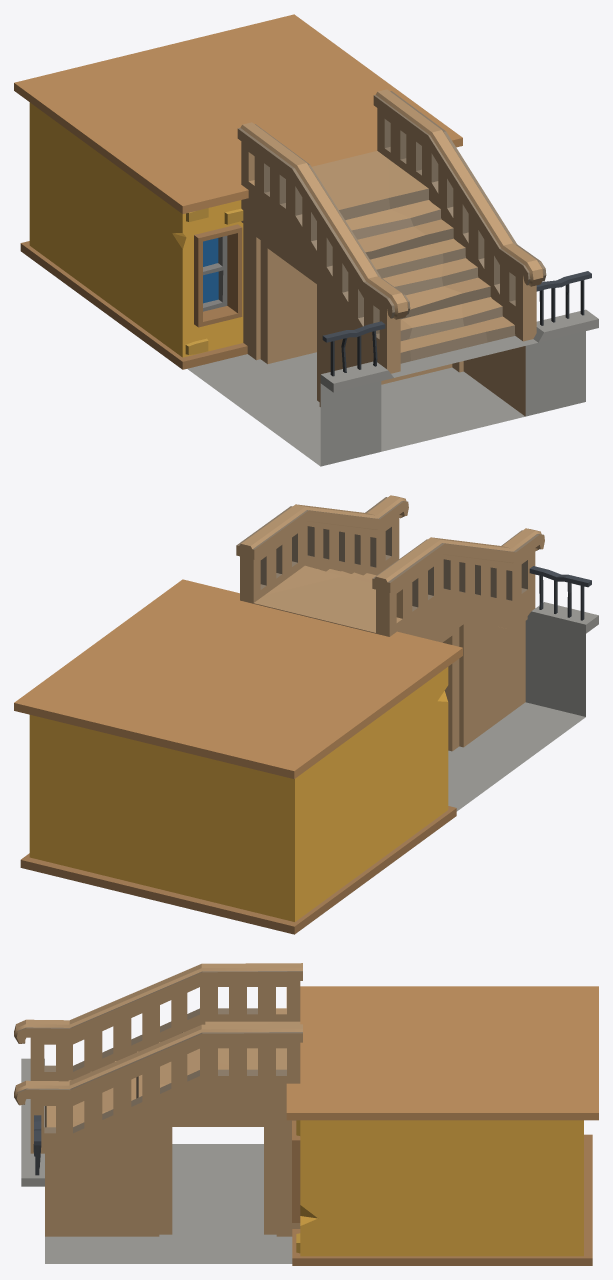
The model's file is SM_Bld_Apartment_Stairs_01.fbx.
The picture shows the model from 3 angles, top to bottom: view 1: azimuth 30°, elevation 25°; view 2: azimuth 150°, elevation 25°; view 3: azimuth 270°, elevation 25°; orthographic projection. The views are drawn at different scales.
Visible parts, largest first — view 1: SM_Bld_Apartment_Stairs_01; view 2: SM_Bld_Apartment_Stairs_01; view 3: SM_Bld_Apartment_Stairs_01.
Part boxes in pixels (x1=…): SM_Bld_Apartment_Stairs_01: x1=14, y1=14, x2=598, y2=466; SM_Bld_Apartment_Stairs_01: x1=14, y1=495, x2=598, y2=934; SM_Bld_Apartment_Stairs_01: x1=14, y1=963, x2=598, y2=1265.
Bounding box in the file's own units: 5.28 × 4.05 × 10.31.
1 material, 1 textured.
